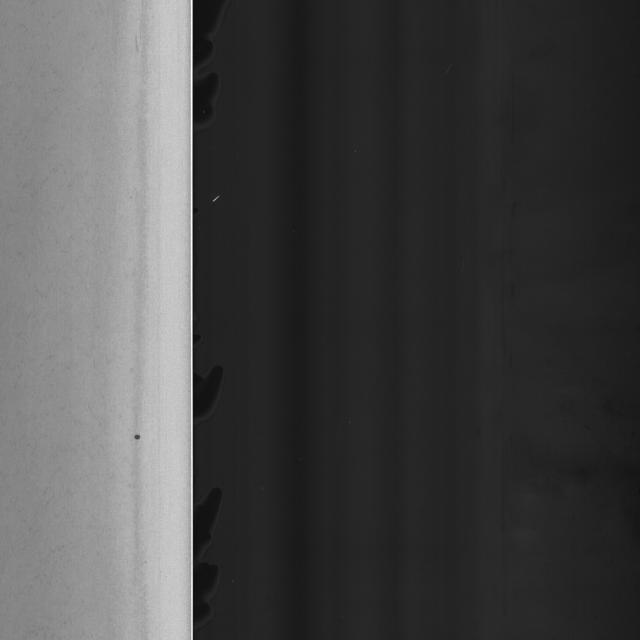inclusion: (0, 73, 105, 560)
welding_line: (129, 426, 149, 458)
